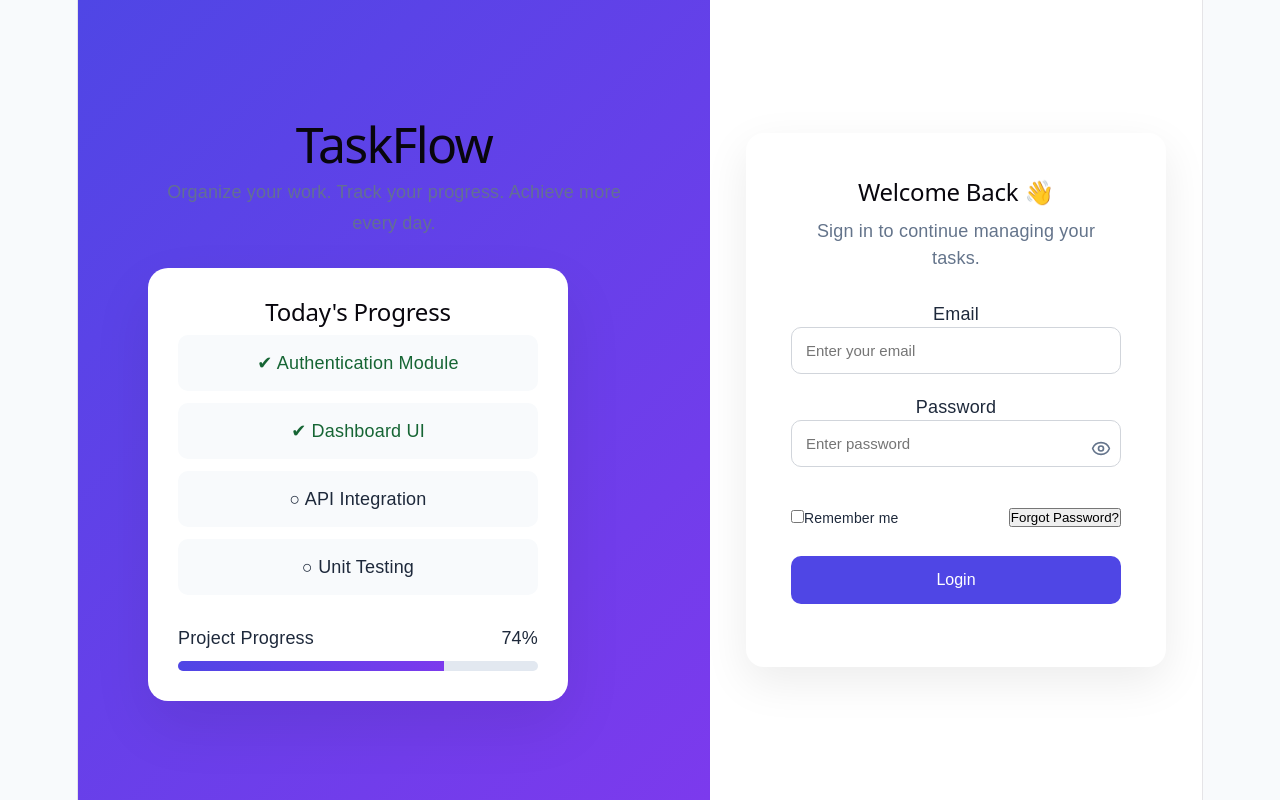
Scenario: Login › login validation
Click the button "Login" at (956, 580), box [791, 556, 1121, 604]
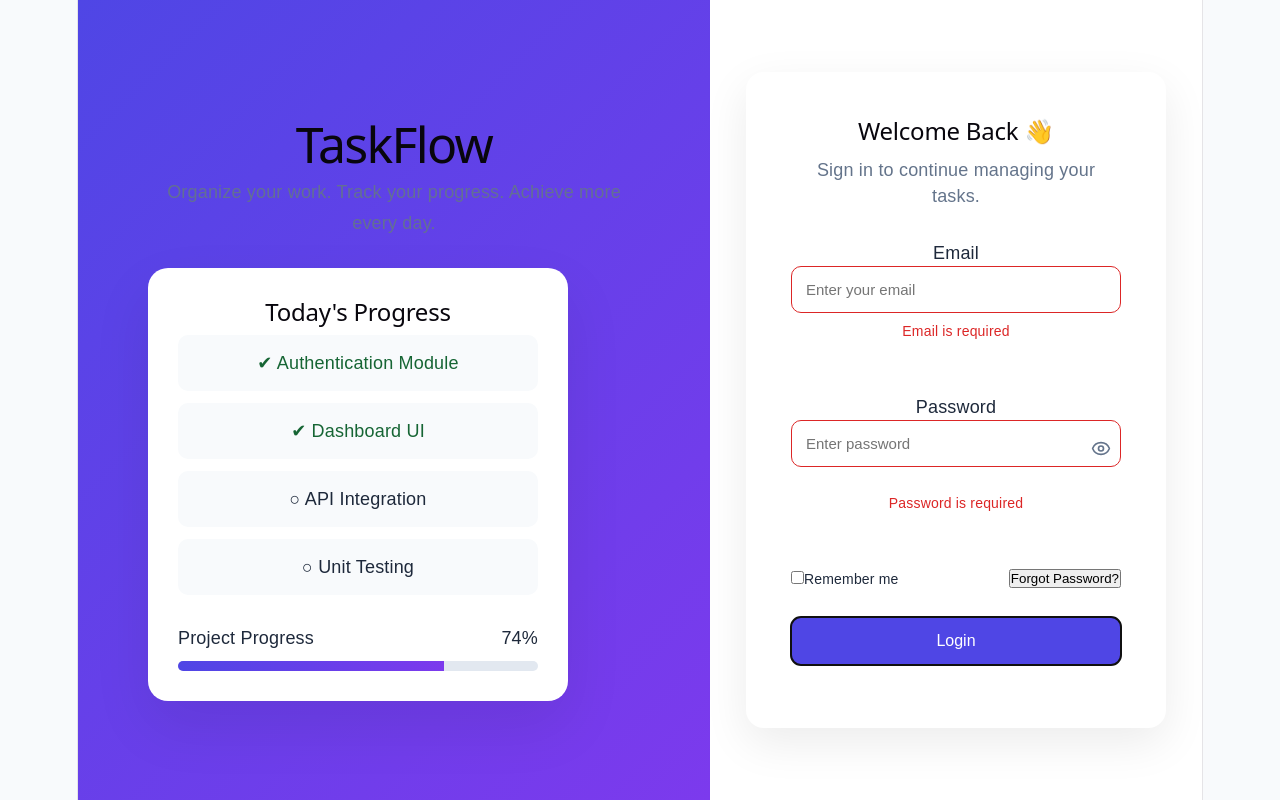
Check: the text "Email is required" is shown, box [902, 323, 1010, 339]
Check: the text "Password is required" is shown, box [889, 495, 1023, 511]
